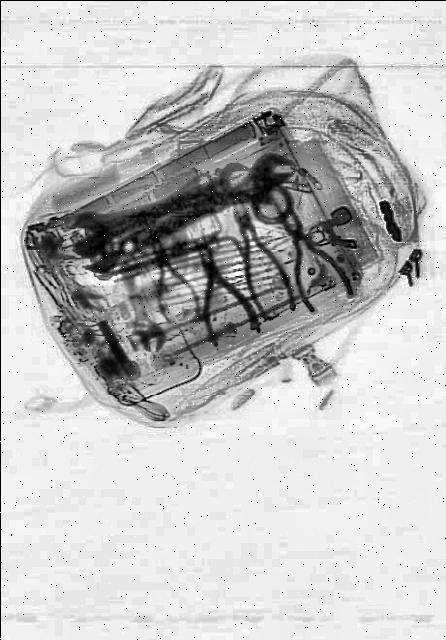Pliers: (260, 178, 352, 322), (174, 220, 260, 356), (216, 188, 298, 328), (138, 230, 202, 334)
Wrench: (94, 138, 300, 276), (65, 153, 255, 261), (106, 236, 166, 354)
